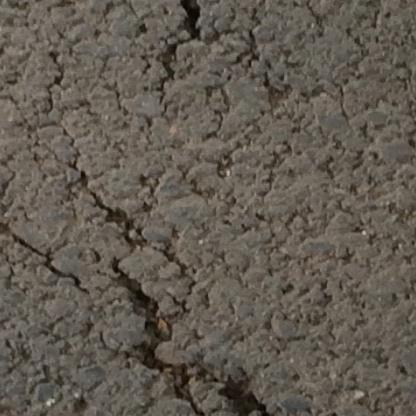Cracks: (63, 147, 297, 416), (0, 200, 93, 297), (153, 0, 211, 110), (304, 0, 329, 41)
